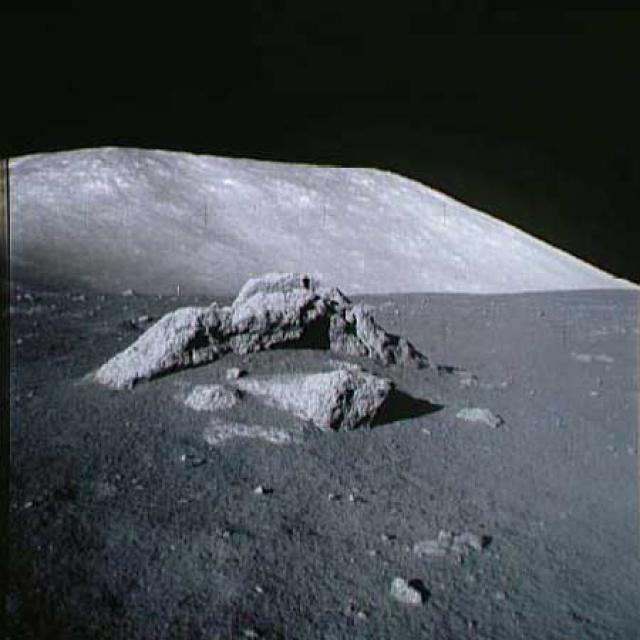rock: (79, 271, 451, 386), (234, 362, 398, 428), (406, 528, 498, 560), (444, 401, 508, 431), (177, 380, 240, 410), (385, 575, 428, 614)
